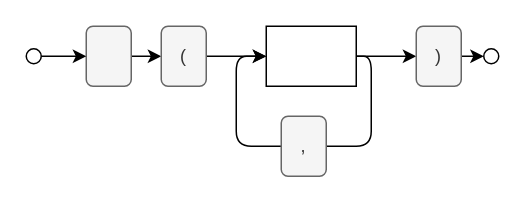
Image size: 525x203. Some labels were removed from this diagram. Here are the shapes that lost their labels. From the top down, the box of each, then its label:
(85, 25, 131, 86): var
(265, 25, 356, 86): ident
